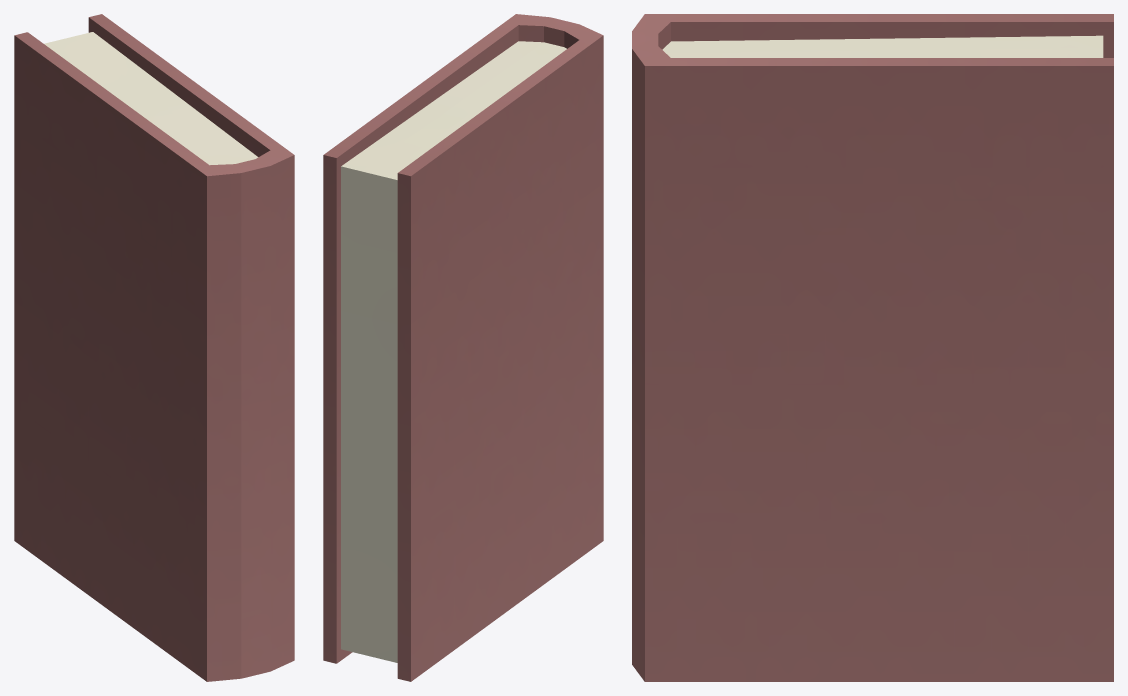
Rendered from book_2.glb.
The picture shows the model from 3 angles, left to right: view 1: azimuth 30°, elevation 25°; view 2: azimuth 150°, elevation 25°; view 3: azimuth 270°, elevation 25°; orthographic projection. The views are drawn at different scales.
Visible parts, largest first — view 1: book_2; view 2: book_2; view 3: book_2.
Part boxes in pixels (x1=…): book_2: x1=14, y1=14, x2=294, y2=681; book_2: x1=323, y1=14, x2=603, y2=681; book_2: x1=632, y1=14, x2=1113, y2=681.
Bounding box in the file's own units: 0.0375 × 0.2073 × 0.147.
Materials: 1 (1 with a texture image).
